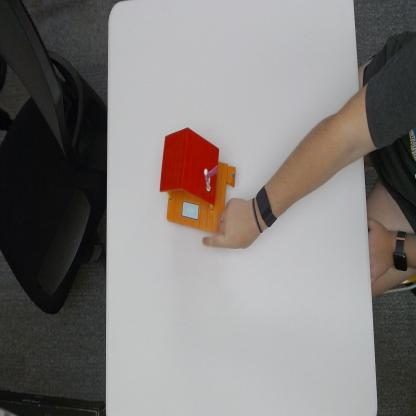Arm: (275, 94, 369, 214)
Hand: (204, 199, 260, 253)
House: (160, 126, 238, 234)
